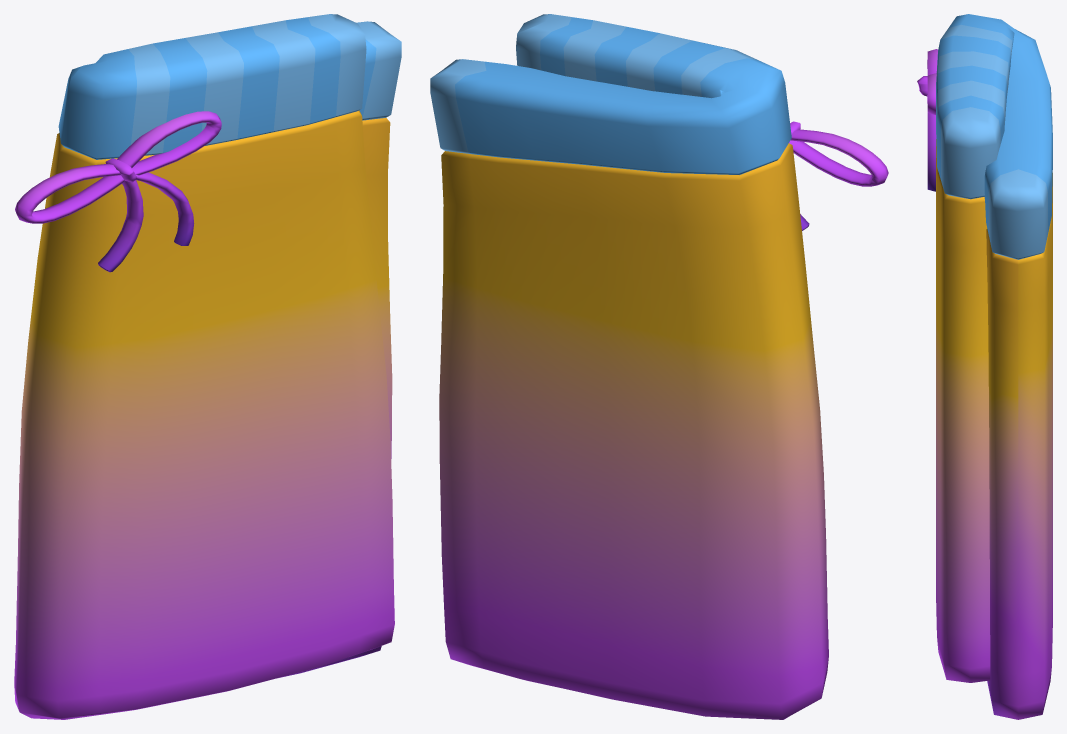
The model's file is shorts.fbx.
The picture shows the model from 3 angles, left to right: view 1: azimuth 30°, elevation 25°; view 2: azimuth 150°, elevation 25°; view 3: azimuth 270°, elevation 25°; orthographic projection. The views are drawn at different scales.
Visible parts, largest first — view 1: short; view 2: short; view 3: short.
Part boxes in pixels (x1,y1,x2,y2): short: [14, 14, 401, 719]; short: [430, 14, 888, 719]; short: [917, 14, 1052, 719].
Size of the model in its own units: 0.9606 by 1.46 by 0.3073.
